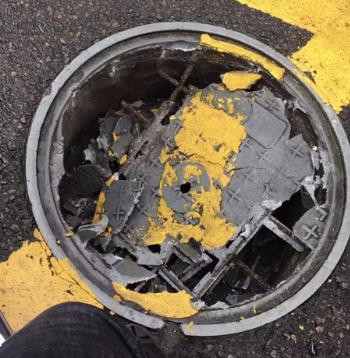wellcover: (30, 3, 350, 338)
